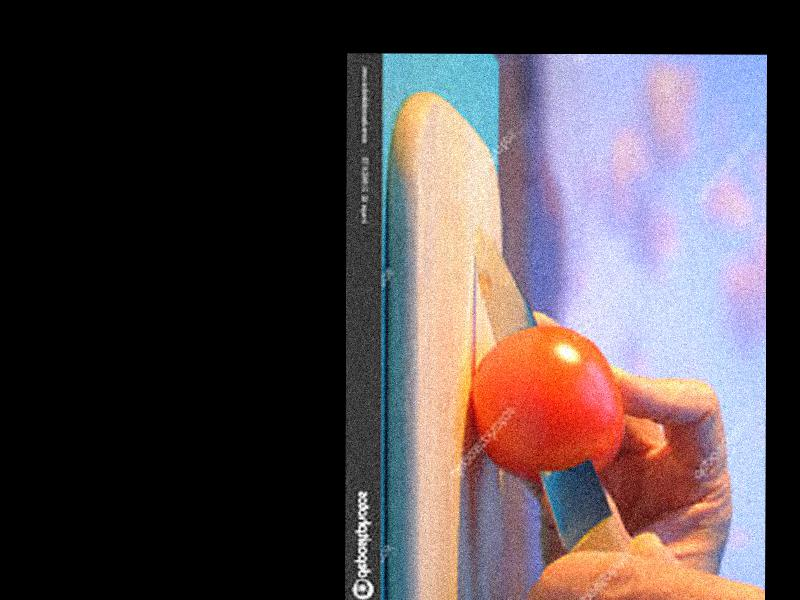Tomato: (468, 323, 622, 481)
